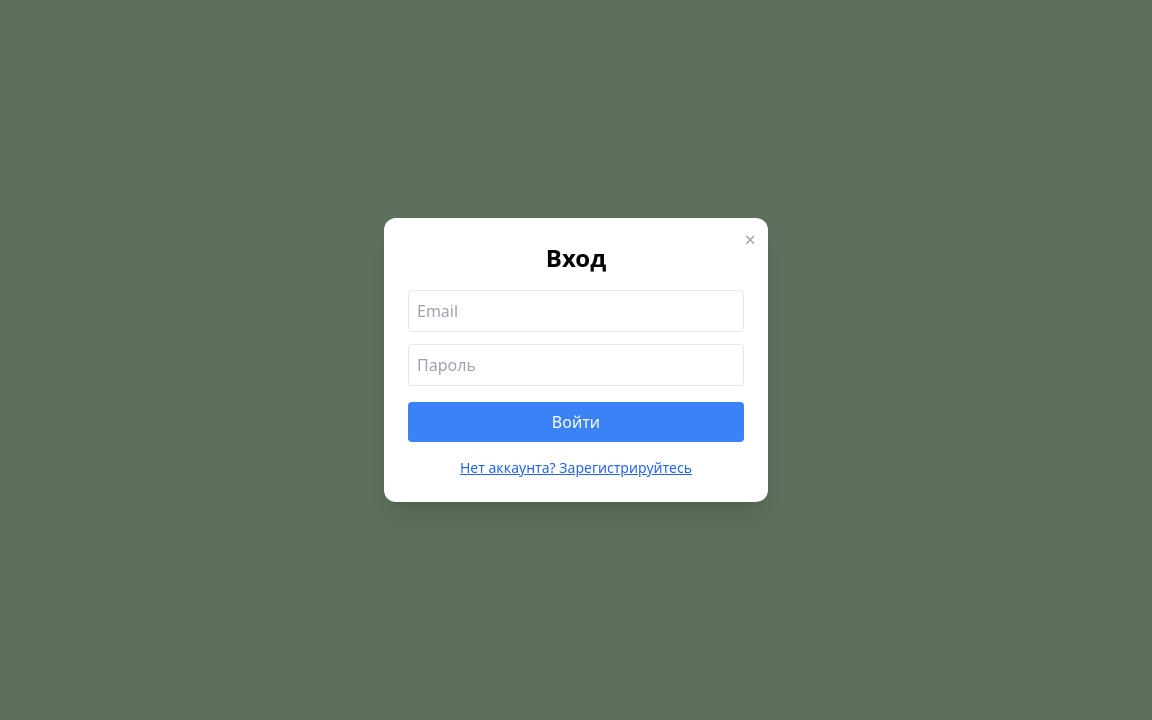
it: AuthForm.vue › показывает ошибку при пустых полях
The width and height of the screenshot is (1152, 720).
Step 1. Click the button "Войти" → click(576, 422), box [408,402,744,442]
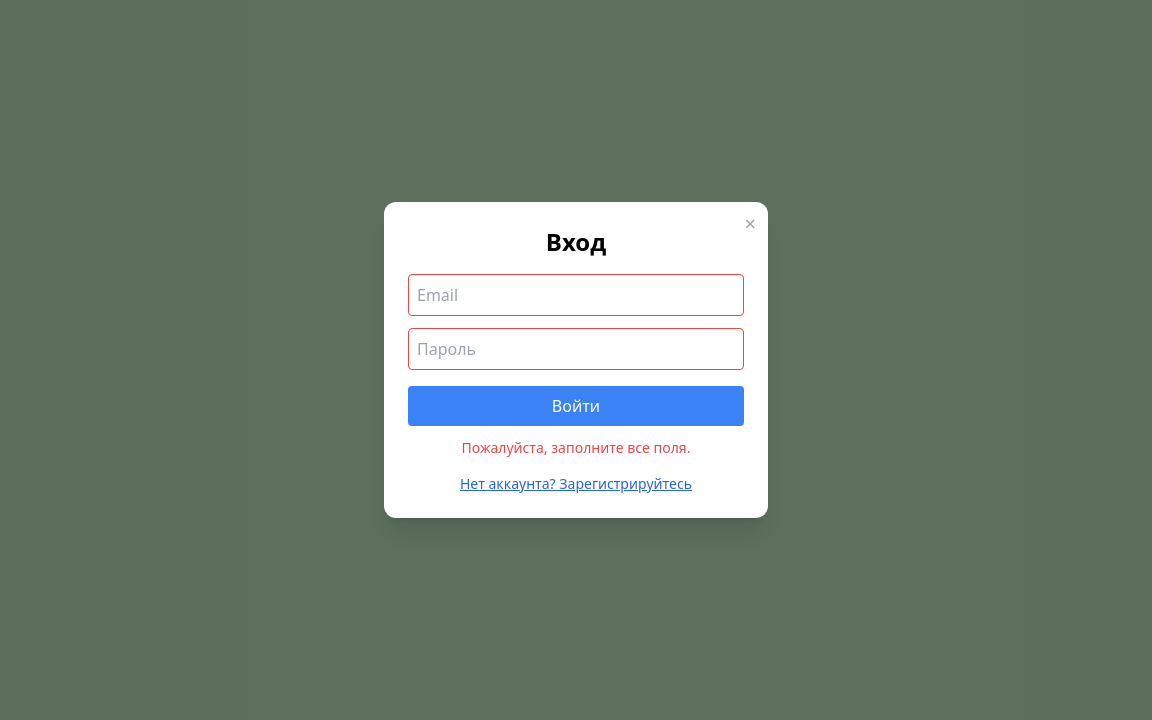
Now the text "Пожалуйста, заполните все поля." is shown, box [462,438,690,457]
